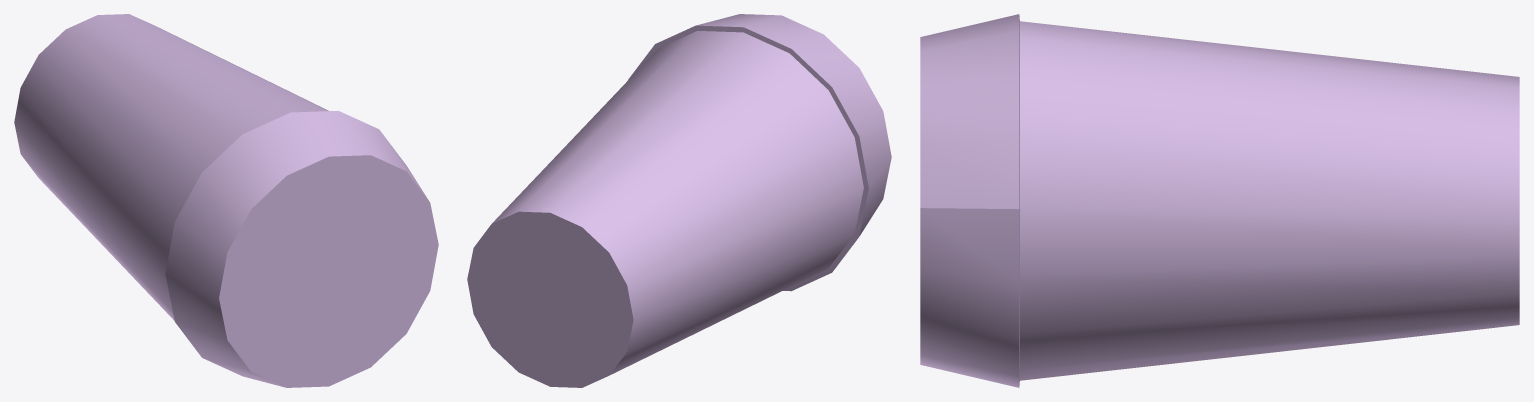
The model's file is CoffeeBottle.fbx.
The picture shows the model from 3 angles, left to right: view 1: azimuth 30°, elevation 25°; view 2: azimuth 150°, elevation 25°; view 3: azimuth 270°, elevation 25°; orthographic projection. The views are drawn at different scales.
Visible parts, largest first — view 1: coffee.001; view 2: coffee.001; view 3: coffee.001.
Boxes of the visible parts, box(x1,y1,x2,y2) form: coffee.001: box(14, 14, 438, 387); coffee.001: box(467, 14, 891, 387); coffee.001: box(920, 14, 1519, 387).
Size of the model in its own units: 47.92 by 47.92 by 76.67.
